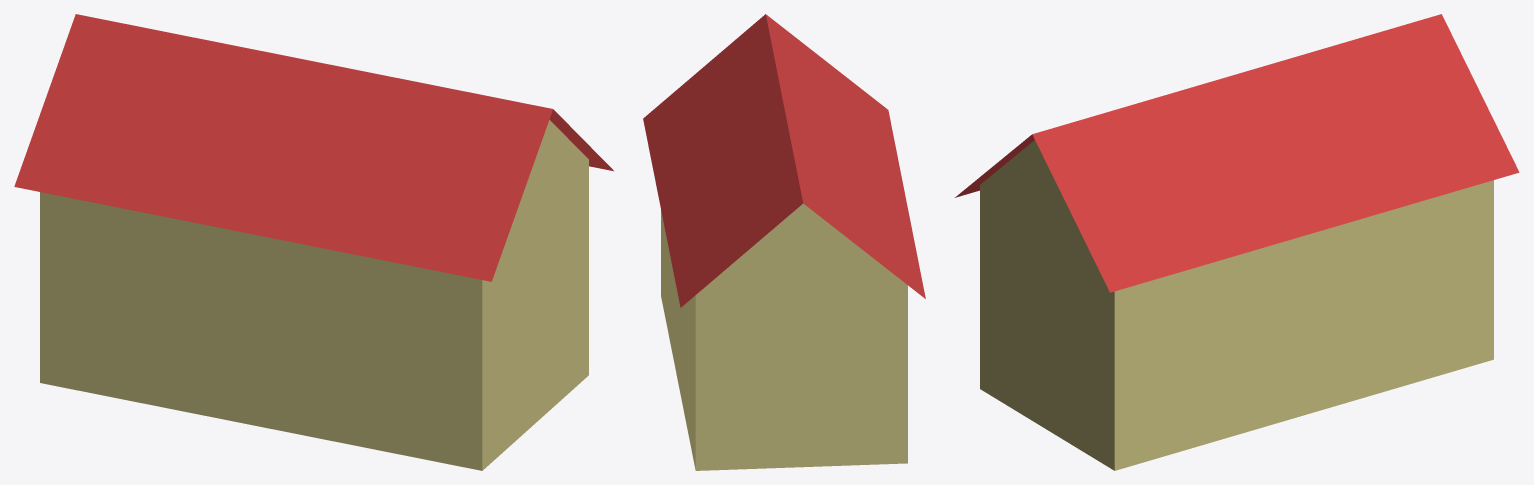
3 views of the same model, side by side, from view 1: azimuth 30°, elevation 25°; view 2: azimuth 150°, elevation 25°; view 3: azimuth 270°, elevation 25° (orthographic). The views are drawn at different scales.
Size of the model in its own units: 20.8 by 23.11 by 13.54.
